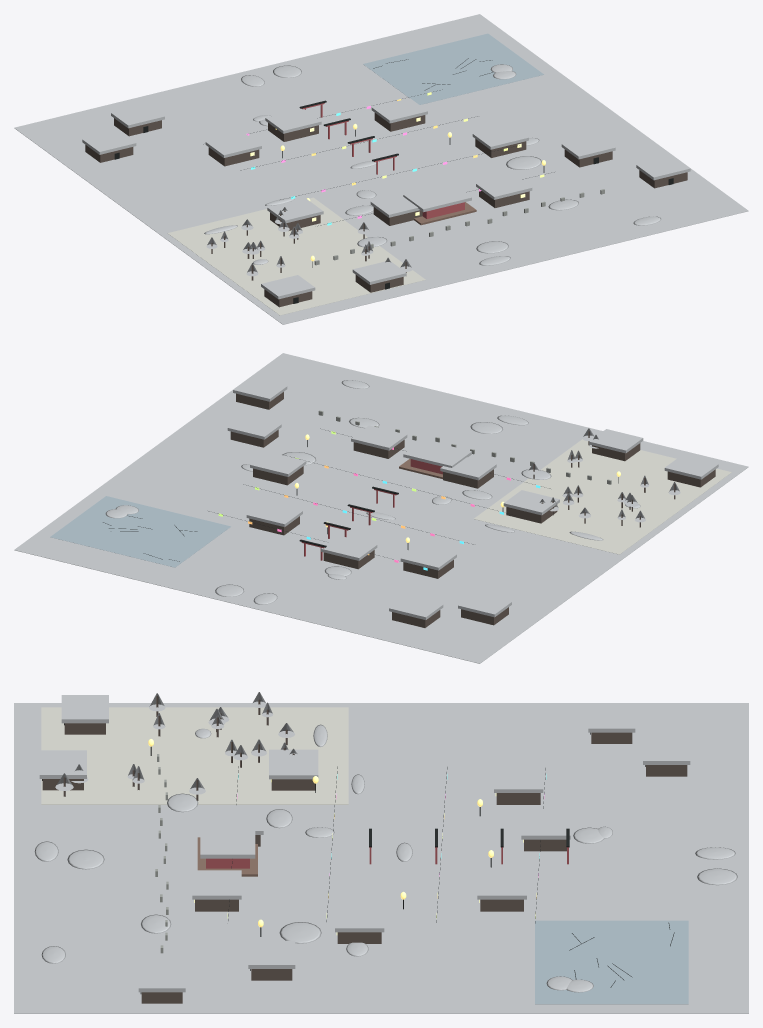
The model's file is level_08_vila_que_reverencia_asia.glb.
3 views of the same model, one above another, from view 1: azimuth 30°, elevation 25°; view 2: azimuth 150°, elevation 25°; view 3: azimuth 270°, elevation 25° (orthographic). The views are drawn at different scales.
Parts seen in each view (by area): view 1: snowy_village_ground, forest_path_snow_pack, frozen_lake_exploration_area, shrine_roof_snow, snow_house_0_roof, snow_house_1_roof, snow_house_2_roof, snow_house_3_roof, snow_house_6_roof, snow_house_4_roof, outer_snow_house_0_roof, outer_snow_house_3_roof (+5 smaller); view 2: snowy_village_ground, forest_path_snow_pack, frozen_lake_exploration_area, shrine_roof_snow, snow_house_6_roof, snow_house_3_roof, snow_house_0_roof, snow_house_2_roof, snow_house_1_roof, snow_house_4_roof, outer_snow_house_1_roof, outer_snow_house_2_roof (+5 smaller); view 3: snowy_village_ground, forest_path_snow_pack, frozen_lake_exploration_area, shrine_roof_snow, snow_house_3_roof, snow_house_4_roof, snow_house_2_roof, snow_house_6_roof, snow_house_0_roof, snow_house_1_roof, outer_snow_house_3_roof, outer_snow_house_0_roof (+13 smaller).
Part boxes in pixels (box(x1,y1,x2,y2)): snowy_village_ground: box(14, 14, 748, 324); forest_path_snow_pack: box(167, 197, 425, 315); frozen_lake_exploration_area: box(363, 33, 543, 104); shrine_roof_snow: box(403, 183, 471, 212); snow_house_0_roof: box(205, 133, 261, 157); snow_house_1_roof: box(265, 109, 321, 133); snow_house_2_roof: box(371, 98, 427, 123); snow_house_3_roof: box(472, 124, 528, 149); snow_house_6_roof: box(476, 174, 532, 199); snow_house_4_roof: box(267, 198, 323, 222); outer_snow_house_0_roof: box(82, 130, 136, 154); outer_snow_house_3_roof: box(636, 156, 690, 180); snowy_village_ground: box(14, 353, 748, 663); forest_path_snow_pack: box(474, 439, 731, 554); frozen_lake_exploration_area: box(50, 496, 230, 567); shrine_roof_snow: box(403, 439, 471, 467); snow_house_6_roof: box(351, 425, 407, 450); snow_house_3_roof: box(250, 451, 306, 476); snow_house_0_roof: box(400, 545, 456, 570); snow_house_2_roof: box(246, 502, 302, 526); snow_house_1_roof: box(321, 535, 377, 560); snow_house_4_roof: box(503, 490, 559, 515); outer_snow_house_1_roof: box(389, 595, 443, 619); outer_snow_house_2_roof: box(227, 415, 281, 439); snowy_village_ground: box(14, 703, 748, 1013); forest_path_snow_pack: box(41, 707, 348, 804); frozen_lake_exploration_area: box(535, 920, 688, 1004); shrine_roof_snow: box(200, 822, 255, 858); snow_house_3_roof: box(335, 902, 384, 932); snow_house_4_roof: box(269, 749, 318, 779); snow_house_2_roof: box(477, 870, 526, 899); snow_house_6_roof: box(192, 870, 241, 899); snow_house_0_roof: box(494, 763, 543, 792); snow_house_1_roof: box(521, 810, 570, 839); outer_snow_house_3_roof: box(138, 963, 185, 992); outer_snow_house_0_roof: box(588, 704, 635, 732).
Bounding box in the file's own units: 134 × 5.08 × 134.
